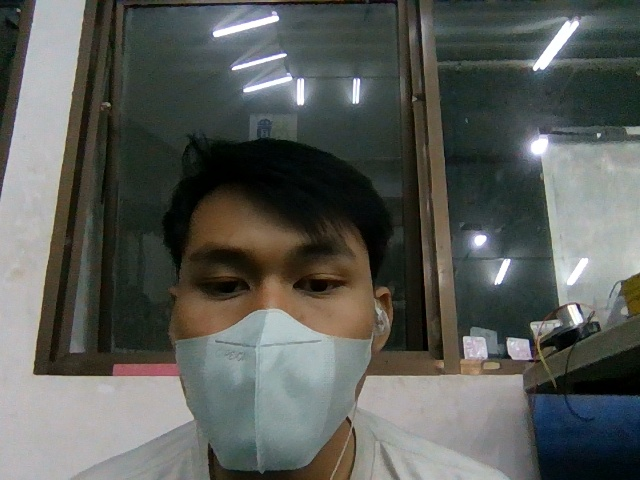mask_on: (173, 311, 371, 472)
